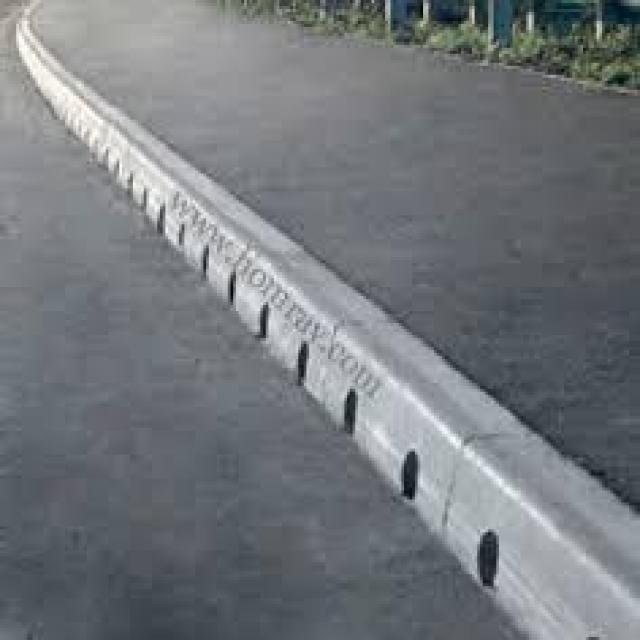curb: (386, 392, 636, 640), (199, 181, 340, 362), (57, 76, 206, 239), (306, 267, 436, 440), (10, 1, 69, 108)
